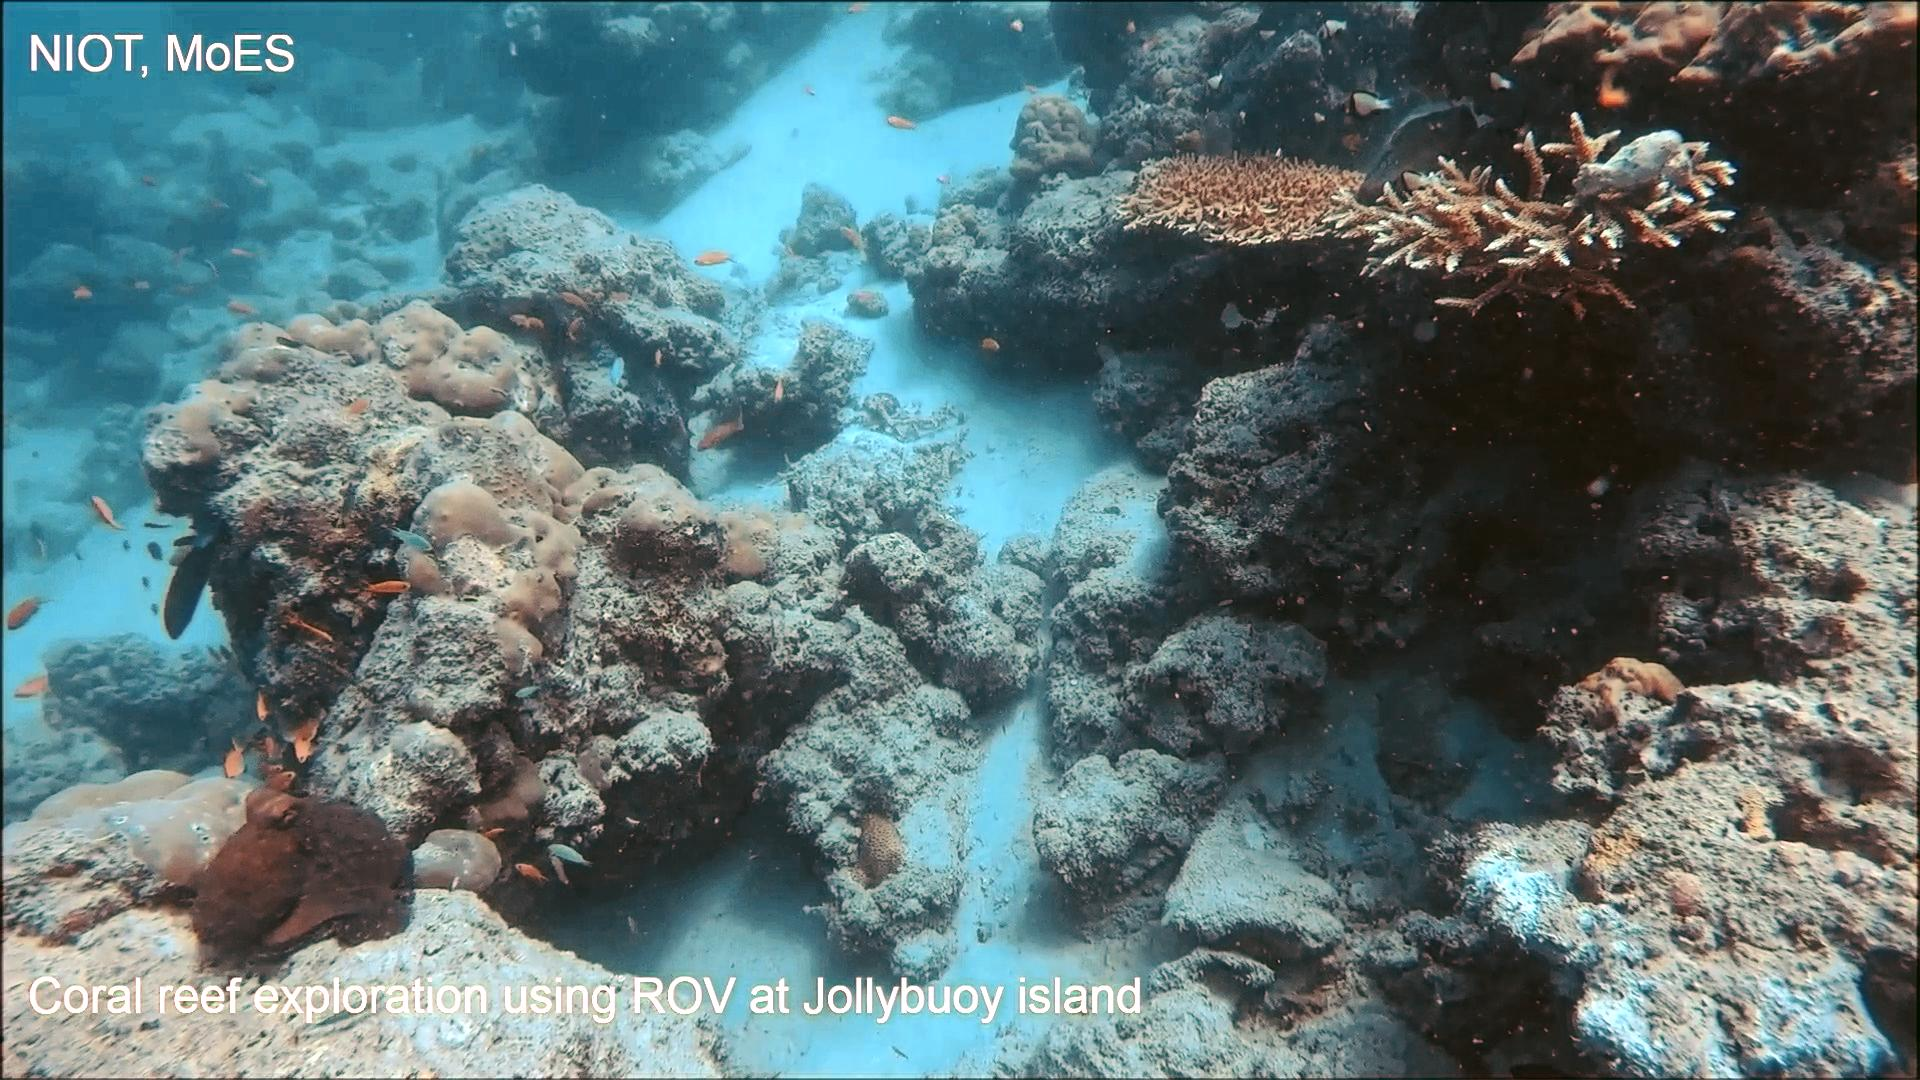Porites-Porites pukoensis: (344, 290, 628, 663)
